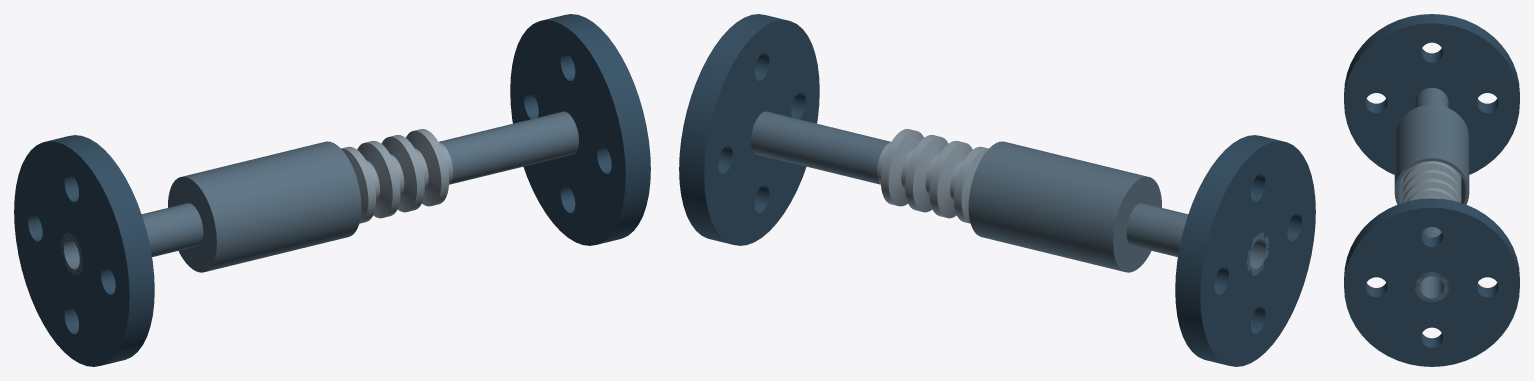
Rendered from silf-dn15-L290-D21_3-k-f-o95.glb.
3 views of the same model, side by side, from view 1: azimuth 30°, elevation 25°; view 2: azimuth 150°, elevation 25°; view 3: azimuth 270°, elevation 25° (orthographic). The views are drawn at different scales.
Parts seen in each view (by area): view 1: homut_flanec_1, homut_flanec_2, osnovanie_kozhuh_1, prokladka_silfon_1, patrubok_2, patrubok_1; view 2: homut_flanec_1, homut_flanec_2, osnovanie_kozhuh_1, prokladka_silfon_1, patrubok_2, patrubok_1; view 3: homut_flanec_2, homut_flanec_1, osnovanie_kozhuh_1, prokladka_silfon_1, patrubok_2, patrubok_1.
Part boxes in pixels (x1,y1,x2,y2): homut_flanec_1: (14, 135, 154, 366); homut_flanec_2: (510, 14, 650, 245); osnovanie_kozhuh_1: (168, 141, 361, 272); prokladka_silfon_1: (341, 129, 452, 223); patrubok_2: (439, 111, 578, 184); patrubok_1: (60, 203, 203, 275); homut_flanec_1: (1175, 135, 1315, 366); homut_flanec_2: (679, 14, 819, 245); osnovanie_kozhuh_1: (968, 141, 1161, 272); prokladka_silfon_1: (877, 129, 988, 223); patrubok_2: (751, 111, 890, 184); patrubok_1: (1126, 203, 1269, 275); homut_flanec_2: (1344, 198, 1519, 366); homut_flanec_1: (1344, 14, 1519, 174); osnovanie_kozhuh_1: (1394, 104, 1469, 204); prokladka_silfon_1: (1402, 161, 1461, 202); patrubok_2: (1415, 227, 1448, 302); patrubok_1: (1415, 87, 1448, 107).
Bounding box in the file's own units: 290 × 111 × 111.
